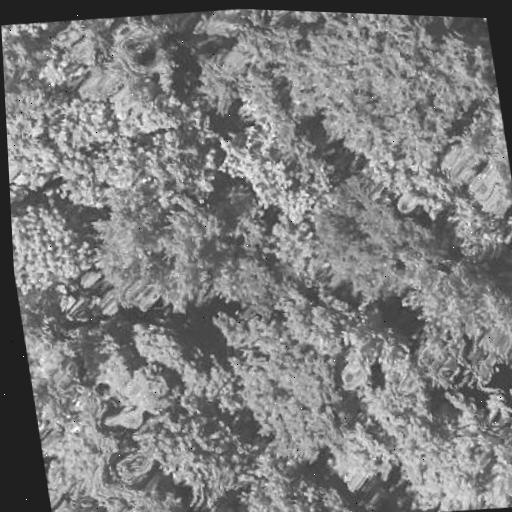tree-top: (290, 11, 491, 194), (77, 171, 237, 325), (106, 384, 268, 512), (383, 249, 512, 401), (382, 389, 512, 512), (231, 339, 359, 463), (212, 112, 339, 226), (307, 174, 418, 302), (54, 10, 178, 122), (4, 85, 113, 195), (191, 30, 297, 125), (203, 453, 366, 512), (10, 185, 94, 298), (20, 305, 100, 417), (440, 110, 512, 211), (46, 414, 129, 498), (324, 412, 406, 497), (213, 241, 295, 325), (114, 310, 210, 380), (81, 473, 185, 512), (103, 359, 169, 415), (200, 7, 271, 44), (1, 21, 50, 59), (495, 203, 512, 284), (501, 319, 512, 441)
